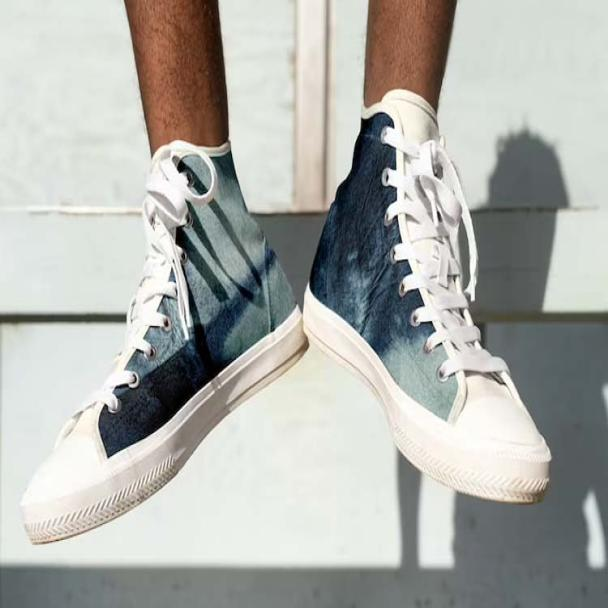Sepatu: (23, 142, 302, 547), (303, 100, 553, 511)
